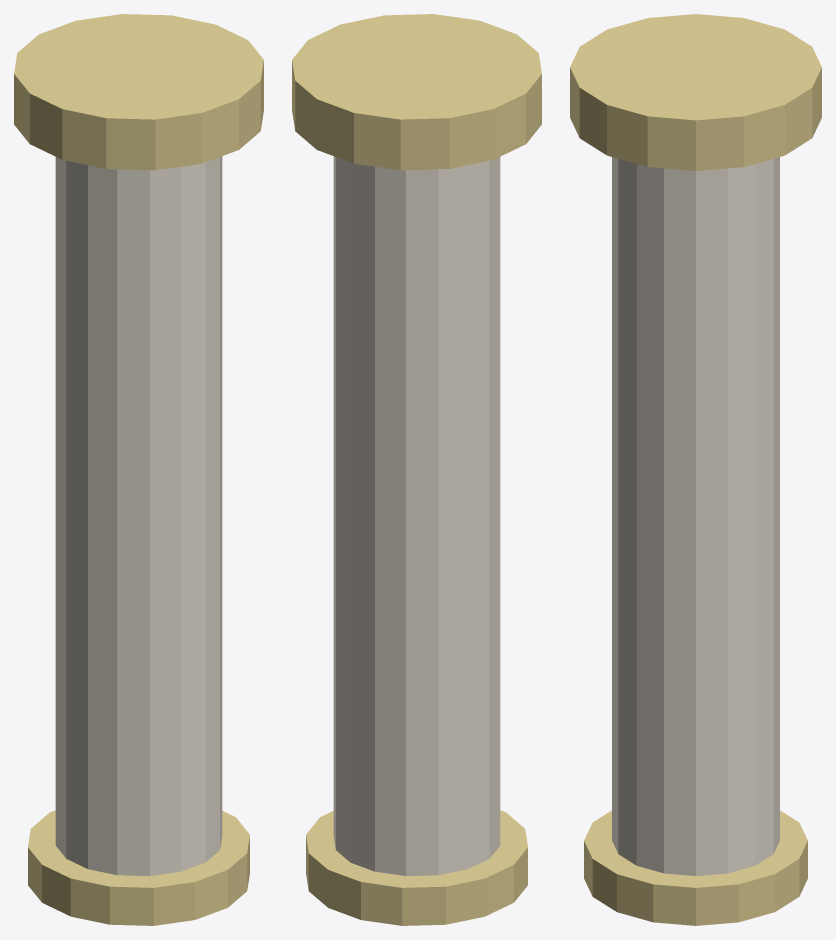
Rendered from env_baroque_column.glb.
3 renders of one model, left to right at view 1: azimuth 30°, elevation 25°; view 2: azimuth 150°, elevation 25°; view 3: azimuth 270°, elevation 25°, orthographic.
Parts seen in each view (by area): view 1: baroque_column, baroque_capital, baroque_base; view 2: baroque_column, baroque_capital, baroque_base; view 3: baroque_column, baroque_capital, baroque_base.
Boxes of the visible parts, x1=… form: baroque_column: x1=55, y1=156, x2=222, y2=876; baroque_capital: x1=14, y1=14, x2=263, y2=170; baroque_base: x1=28, y1=810, x2=249, y2=925; baroque_column: x1=333, y1=156, x2=500, y2=876; baroque_capital: x1=292, y1=14, x2=541, y2=170; baroque_base: x1=306, y1=810, x2=527, y2=925; baroque_column: x1=612, y1=157, x2=779, y2=875; baroque_capital: x1=570, y1=14, x2=821, y2=170; baroque_base: x1=584, y1=810, x2=807, y2=925.
Bounding box in the file's own units: 0.9 × 3.2 × 0.9.
